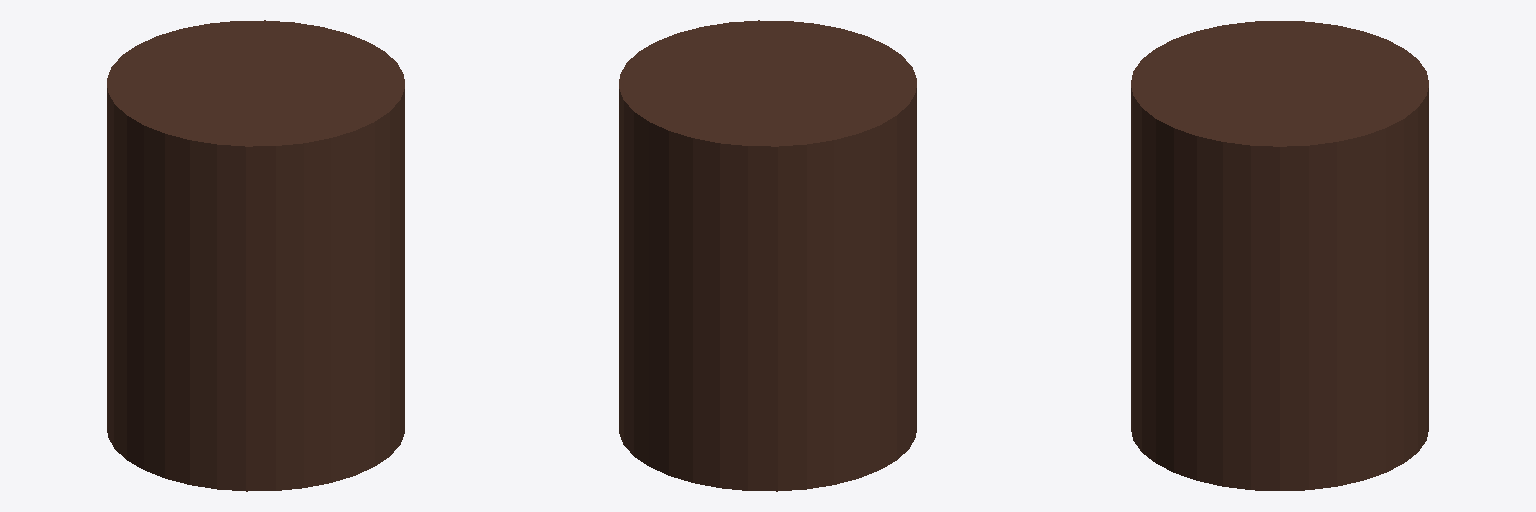
URDF robot description (coffee):
<?xml version="1.0" ?>
<!-- Coffee: cylinder 11cm diameter x 14cm tall -->
<robot name="coffee">
  <link name="coffee_link">
    <visual>
      <geometry>
        <cylinder radius="0.055" length="0.14"/>
      </geometry>
      <material name="coffee_color">
        <color rgba="0.36 0.25 0.20 1.0"/>
      </material>
    </visual>
    <collision>
      <geometry>
        <cylinder radius="0.055" length="0.14"/>
      </geometry>
    </collision>
    <inertial>
      <mass value="0.4"/>
      <inertia ixx="0.001" ixy="0.0" ixz="0.0" iyy="0.001" iyz="0.0" izz="0.001"/>
    </inertial>
  </link>
</robot>

--- Render facts (derived) ---
The picture shows the robot from 3 angles, left to right: view 1: azimuth 30°, elevation 25°; view 2: azimuth 150°, elevation 25°; view 3: azimuth 270°, elevation 25°; orthographic projection.
Model coffee with 1 links and 0 joints (none), rooted at coffee_link, posed all joints at 0.
Links seen in each view (by area): view 1: coffee_link; view 2: coffee_link; view 3: coffee_link.
Boxes of the visible links, x1=… form: coffee_link: x1=107, y1=20, x2=404, y2=491; coffee_link: x1=619, y1=20, x2=916, y2=491; coffee_link: x1=1131, y1=21, x2=1428, y2=490.
Size in the robot's own frame: 0.11 by 0.11 by 0.14 metres.
Geometry: primitives only (box / cylinder / sphere), no mesh files.
